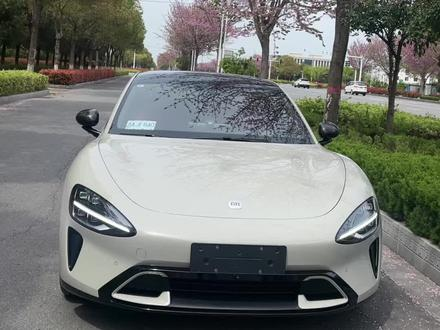other: (59, 58, 386, 323)
